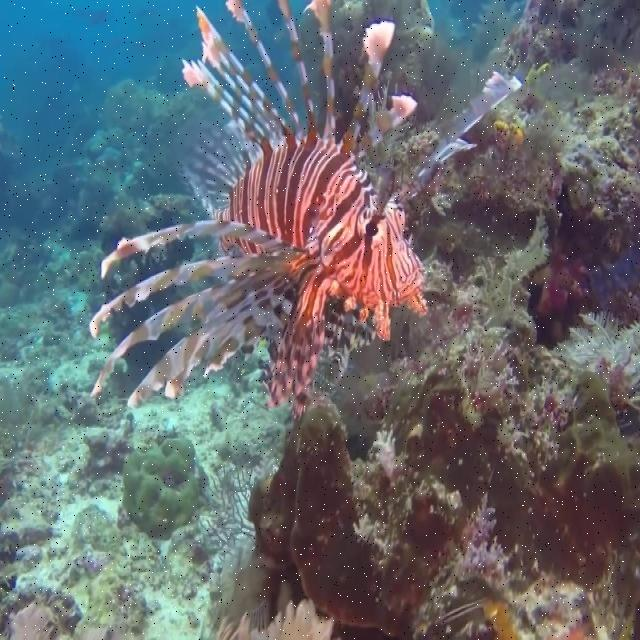fish: (89, 0, 517, 417)
reefs: (126, 437, 198, 537)
